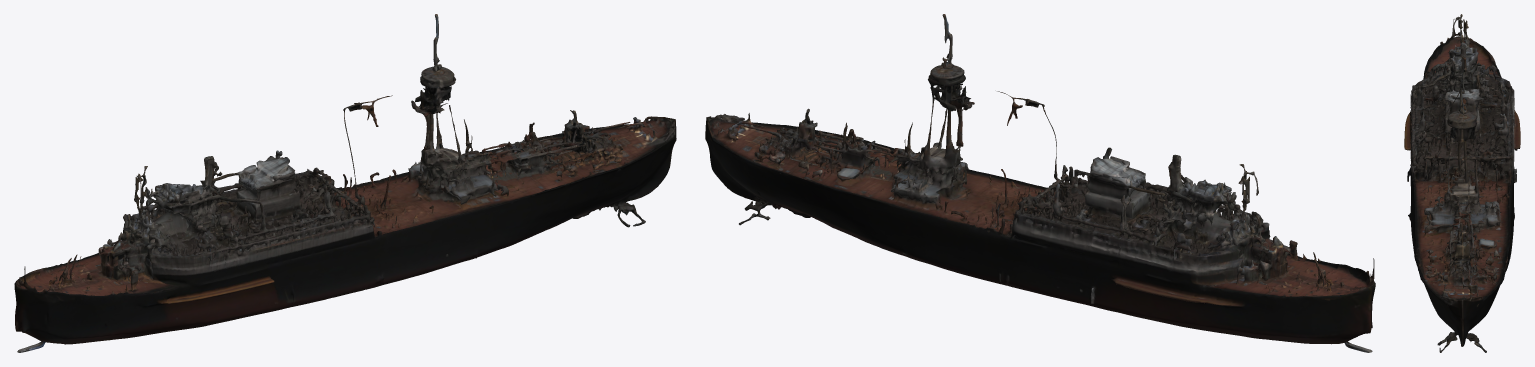
3 renders of one model, left to right at view 1: azimuth 30°, elevation 25°; view 2: azimuth 150°, elevation 25°; view 3: azimuth 270°, elevation 25°, orthographic. The views are drawn at different scales.
Bounding box in the file's own units: 1.99 × 0.7074 × 0.361.
Materials: 1 (1 with a texture image).
